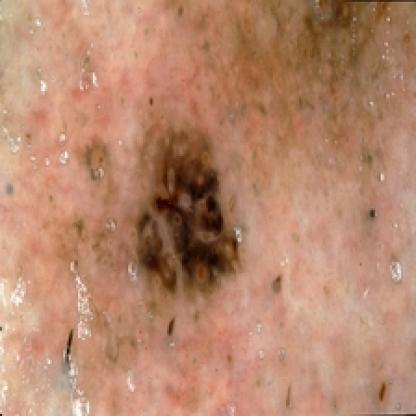Skin_Cancer-Malignant: (128, 116, 243, 310)
